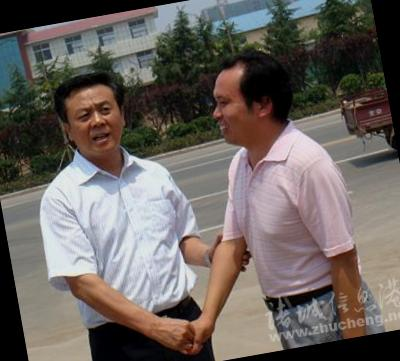no_helmet: (212, 43, 308, 160), (48, 61, 135, 168)
